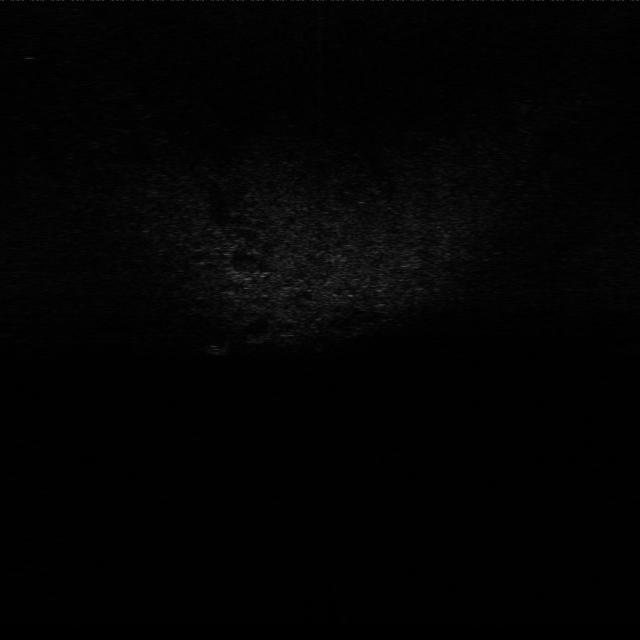cube: (199, 334, 237, 360)
